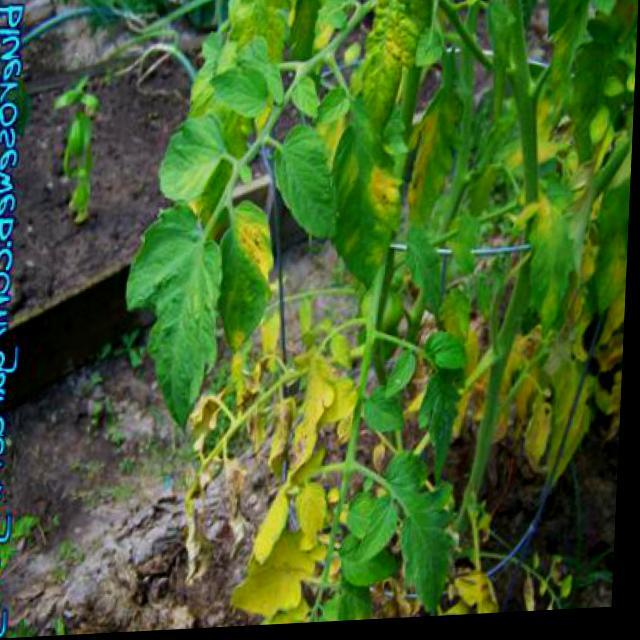Tomato healthy leaf: (120, 200, 234, 446), (314, 90, 406, 312), (374, 443, 473, 622), (212, 190, 296, 348), (520, 187, 578, 350), (161, 112, 236, 201)
